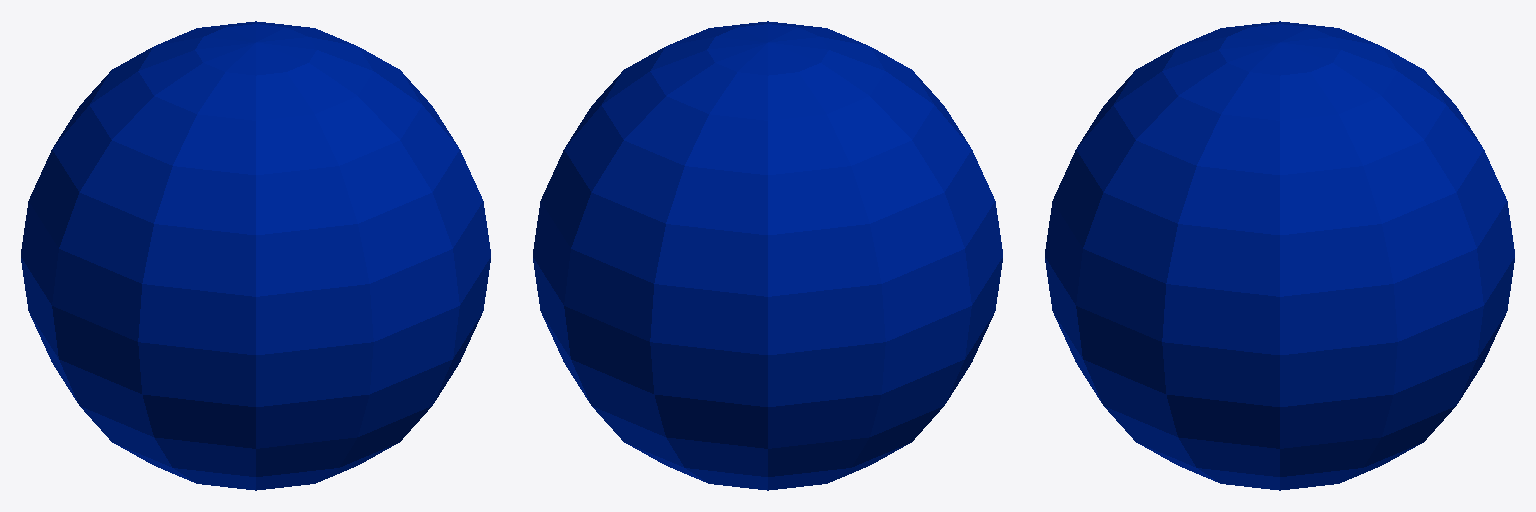
Rendered from simple_quad_sphere.obj.
The picture shows the model from 3 angles: view 1: azimuth 30°, elevation 25°; view 2: azimuth 150°, elevation 25°; view 3: azimuth 270°, elevation 25°; orthographic projection.
Parts seen in each view (by area): view 1: Sphere; view 2: Sphere; view 3: Sphere.
Part boxes in pixels (x1,y1,x2,y2): Sphere: (21,21,490,490); Sphere: (533,21,1002,490); Sphere: (1045,21,1514,490).
Size of the model in its own units: 1.07 by 1.07 by 1.07.